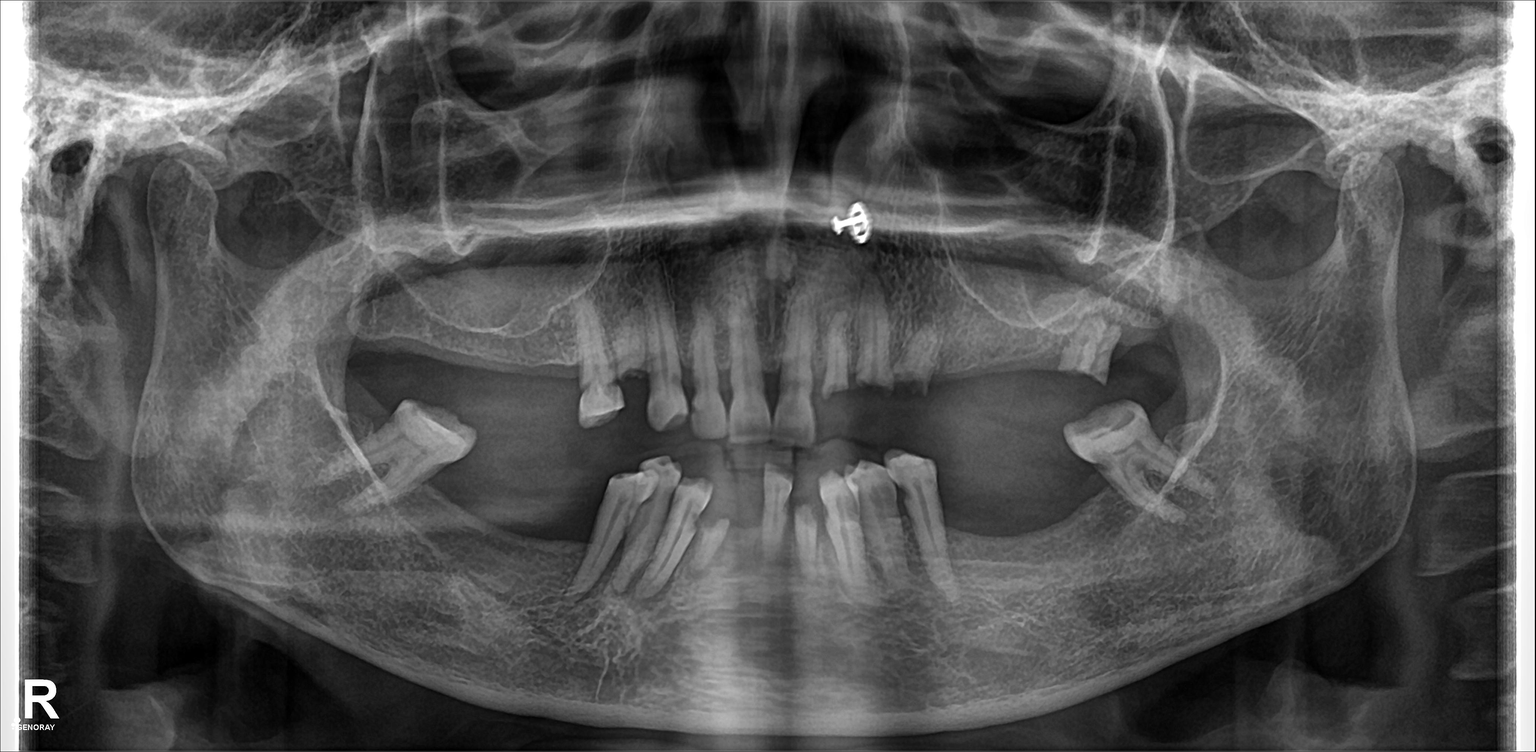Impacted Third Molar: (335, 421, 460, 500)
Missing Tooth: (447, 478, 489, 609), (404, 264, 447, 362), (358, 275, 401, 372), (1043, 473, 1089, 557), (503, 289, 542, 387), (1110, 294, 1158, 371), (983, 478, 1026, 559), (946, 471, 982, 557), (462, 279, 493, 374), (989, 328, 1022, 411), (1035, 309, 1059, 399), (959, 315, 985, 398), (507, 497, 532, 582), (559, 497, 584, 581), (419, 484, 447, 557)
Retained Root: (613, 324, 651, 420), (696, 501, 736, 591), (1060, 315, 1107, 390), (819, 316, 852, 419), (782, 508, 819, 597), (911, 307, 943, 407), (870, 294, 889, 410)
